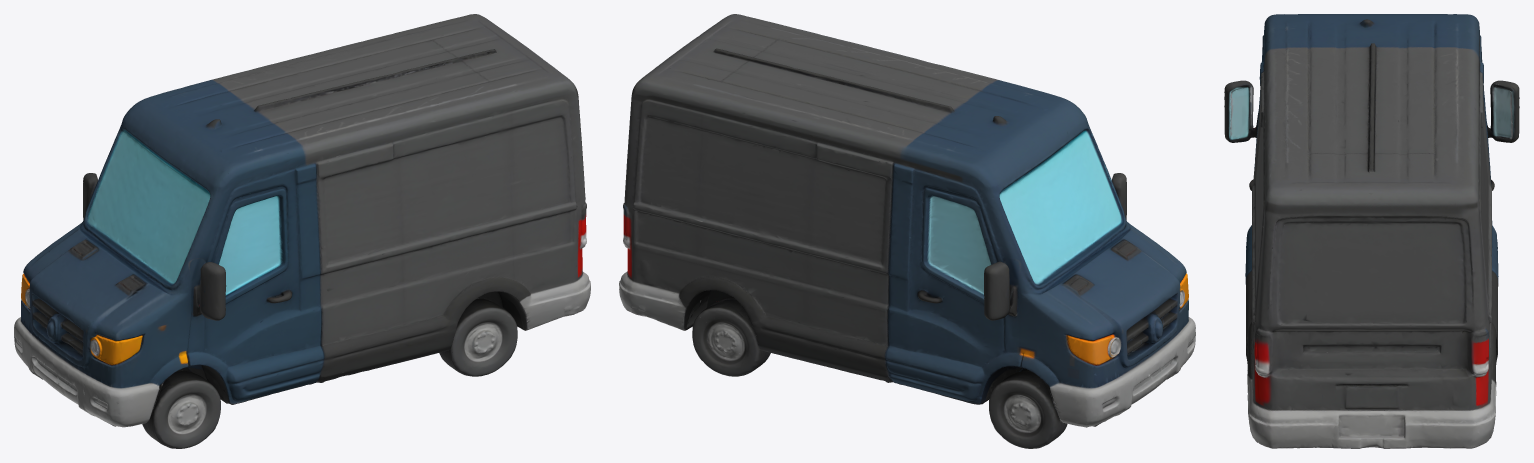
Rendered from infiniband_analogy.glb.
3 views of the same model, side by side, from view 1: azimuth 30°, elevation 25°; view 2: azimuth 150°, elevation 25°; view 3: azimuth 270°, elevation 25° (orthographic). The views are drawn at different scales.
Bounding box in the file's own units: 1.92 × 1.01 × 0.9021.
Materials: 1 (1 with a texture image).
